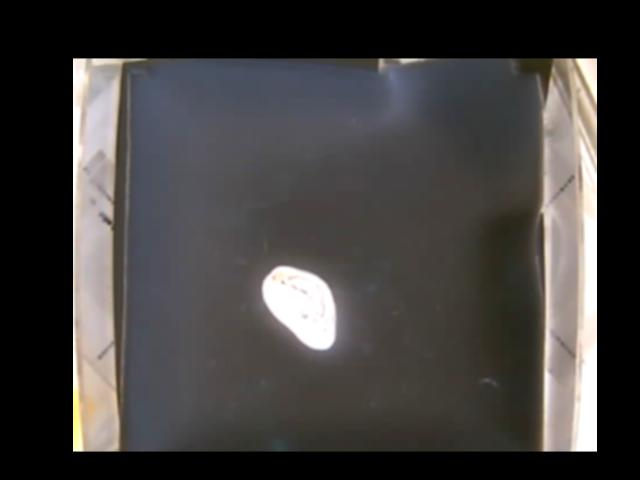Pebble: (262, 264, 338, 347)
